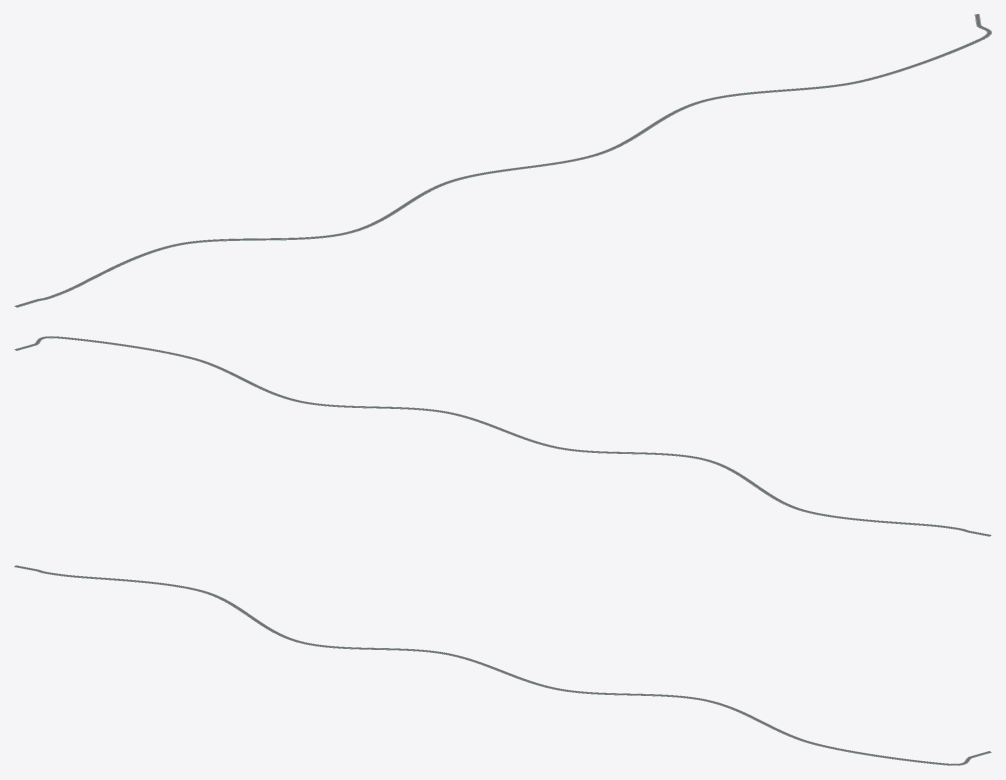
File: road_roam_cross_autumn.glb
The picture shows the model from 3 angles, top to bottom: view 1: azimuth 30°, elevation 25°; view 2: azimuth 150°, elevation 25°; view 3: azimuth 330°, elevation 25°; orthographic projection. The views are drawn at different scales.
Visible parts, largest first — view 1: road; view 2: road; view 3: road.
Boxes of the visible parts, bbox=[...] form: road: bbox=[14, 14, 991, 307]; road: bbox=[14, 336, 991, 536]; road: bbox=[14, 565, 991, 765].
Bounding box in the file's own units: 2780 × 0.32 × 323.
